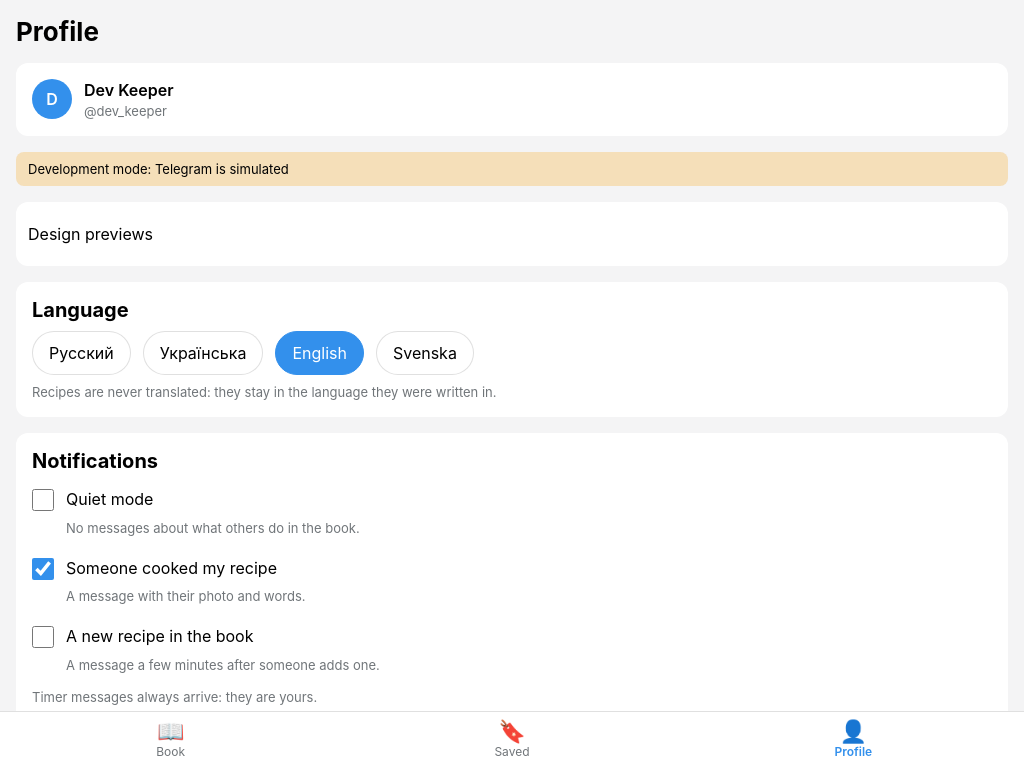
Test: notification settings in the Profile › if saving fails, it says so and the switch goes back
The image size is (1024, 768).
Click the checkbox labelled "Someone cooked my recipe" at point(43, 569), box [32, 558, 54, 580]
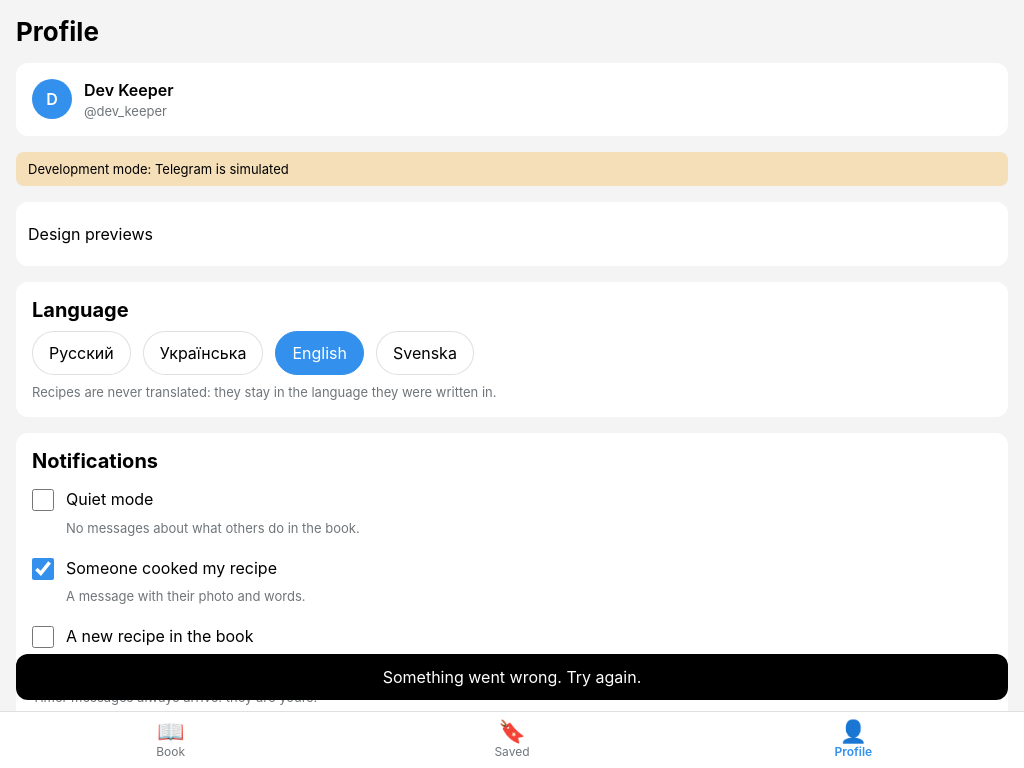
Now the message "Something went wrong. Try again." is shown, box [16, 654, 1008, 700]
